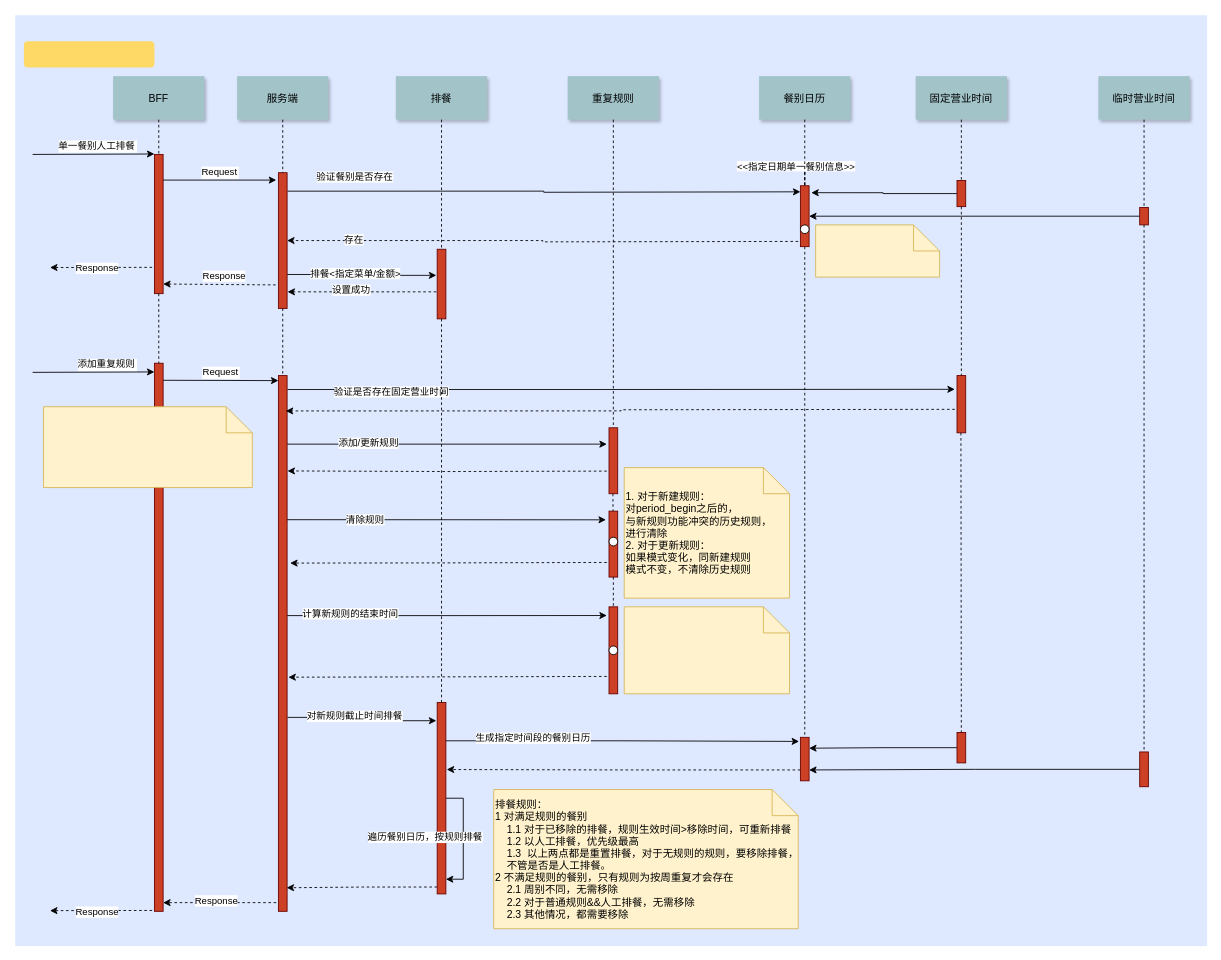
This 1221x960 diagram has some shape labels left out. The shapes that lost their labels are listed below. From the top down, each one's centre as x and y in pixels, then its label:
pixel 88 54: 添加规则
pixel 877 250: 两类营业时间聚合 临时营业时间优先
pixel 147 447: 功能复用： 1. 添加重复规则，进行金额/菜单排餐 2. 移除排餐，添加无规则的规则，即 menuID=-1/price=-1的重复规则。
pixel 706 650: 结束时间： 1. 最大为8天之后的时间 2.下一个与新规则功能冲突的 规则，该规则生效时间的前一 天作为新规则结束时间
